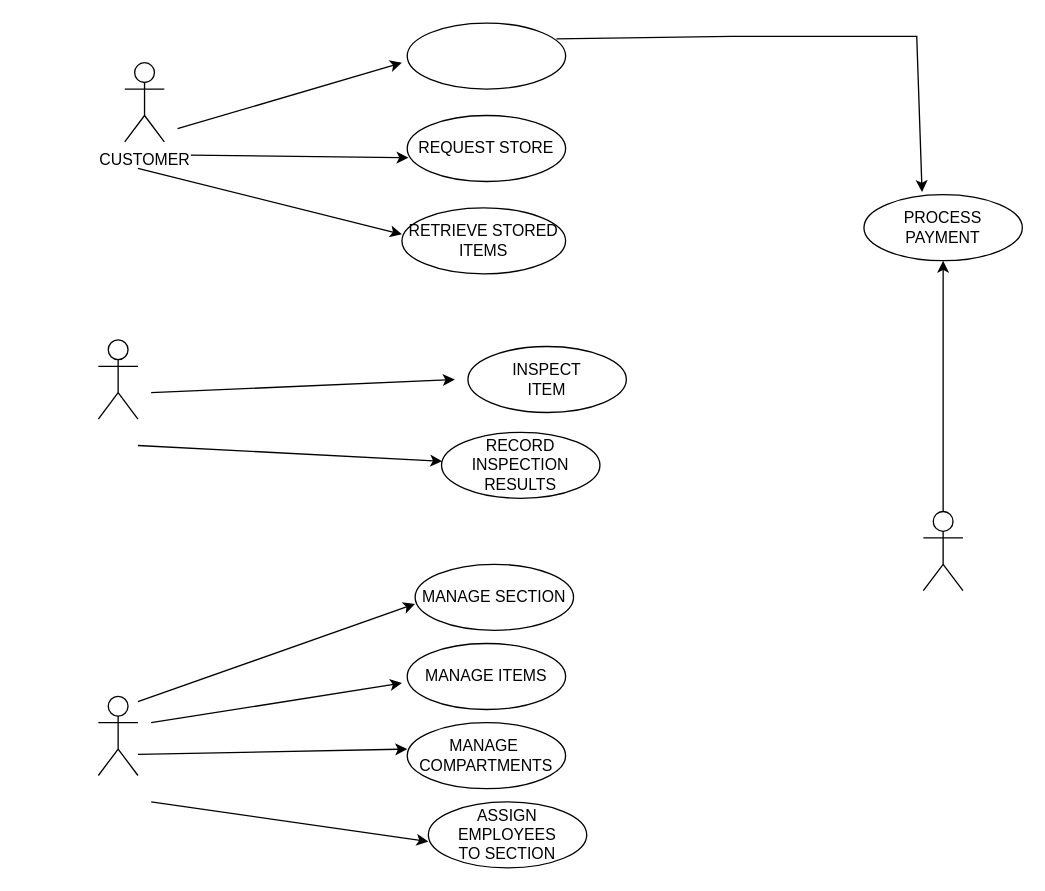
This 1045x891 diagram has some shape labels left out. Here are the shapes that lost their labels. From the top down, the centre of each, then its label:
At pixel 486 55: "MAKE PAYMENT".
At pixel 117 379: "INSPECTOR(EMPLOYEE)".
At pixel 942 550: "CASHIER".
At pixel 117 735: "STORE MANAGER".
